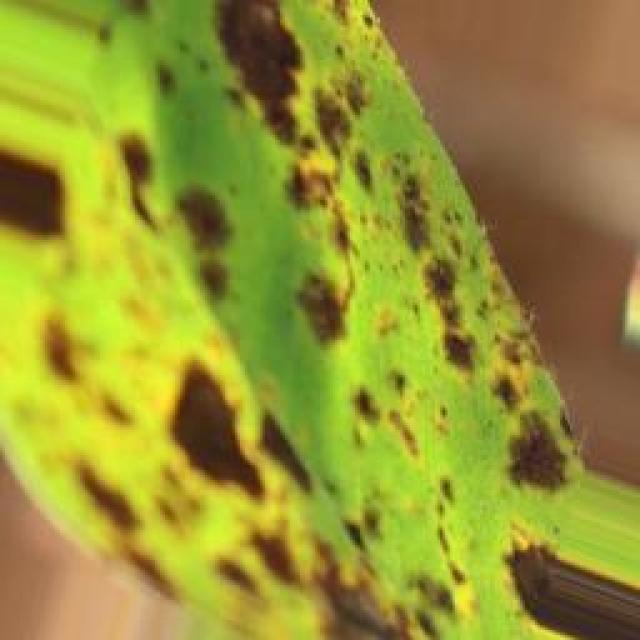Yellowish: (54, 0, 592, 621)
